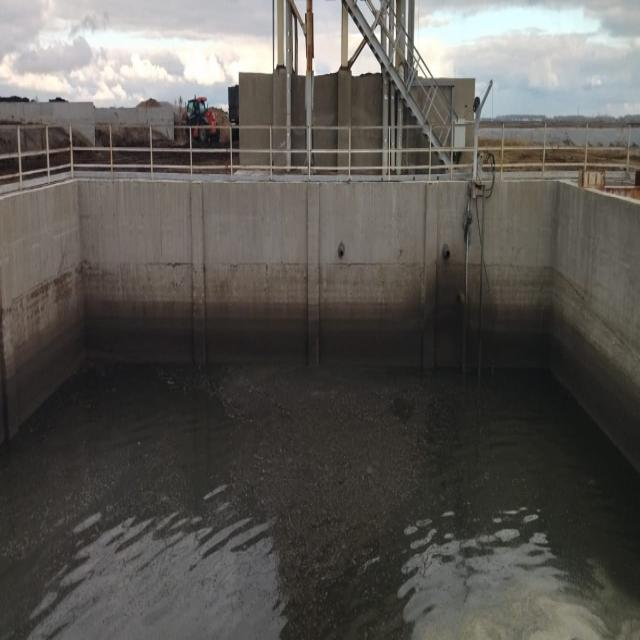fence: (0, 123, 474, 200), (477, 123, 640, 180)
liquid: (0, 363, 640, 640)
